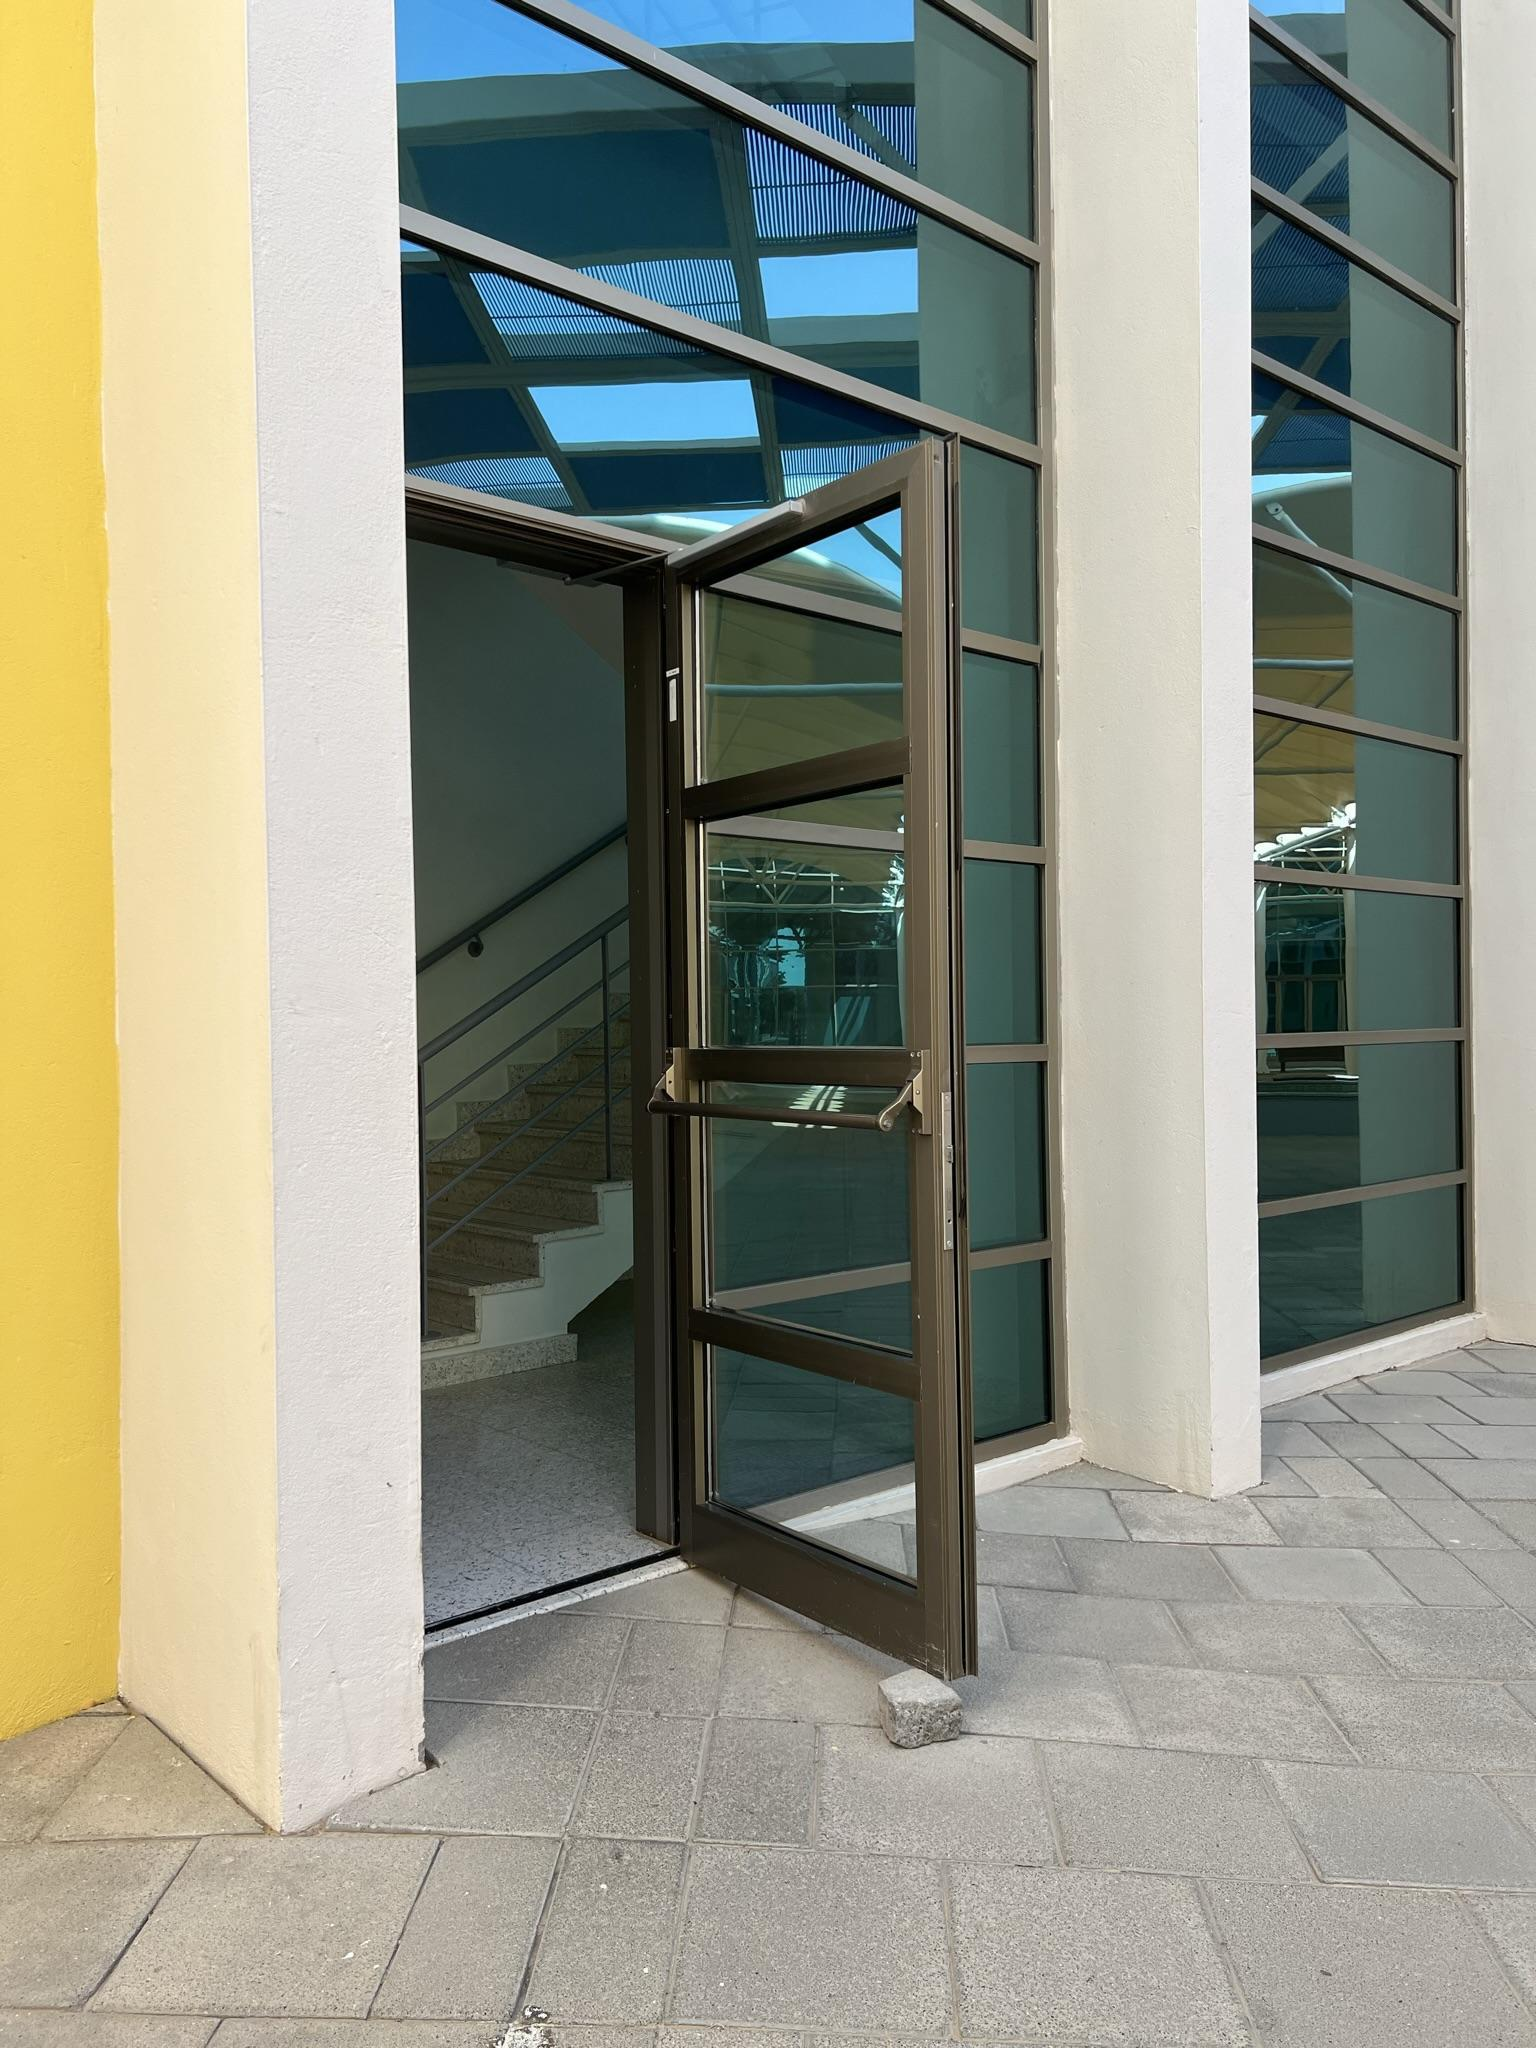door: (622, 451, 973, 1682)
